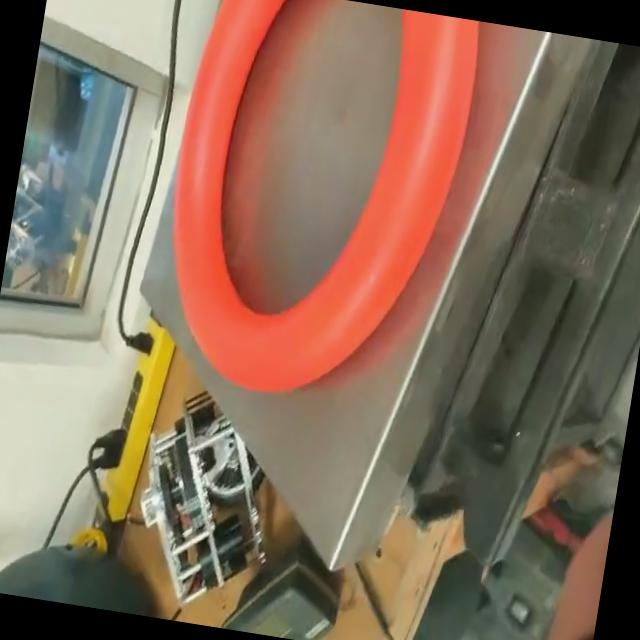note: (138, 0, 485, 424)
